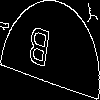B: (25, 25, 52, 78)
